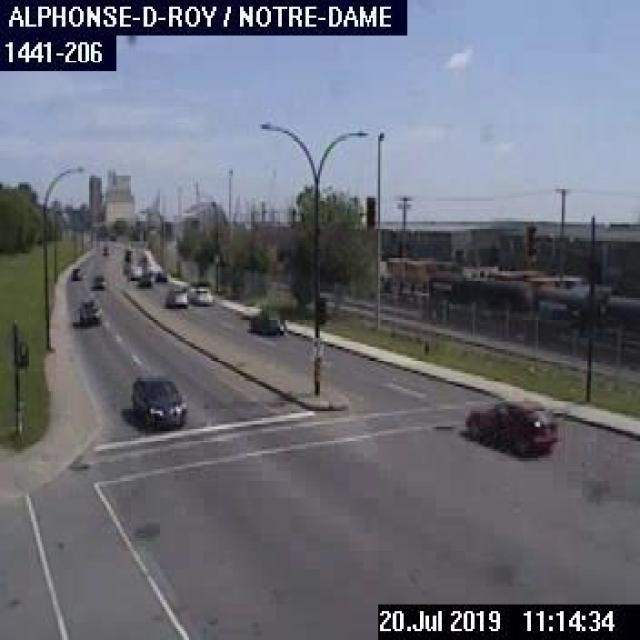vehicle: (466, 396, 558, 458), (128, 371, 188, 429), (245, 309, 288, 333), (77, 298, 102, 326), (162, 283, 188, 306), (187, 281, 213, 304), (136, 269, 152, 286), (126, 264, 142, 278), (89, 274, 105, 288), (152, 268, 168, 280), (69, 264, 82, 278)
